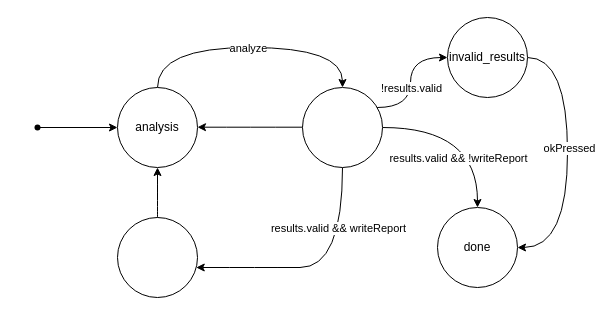
The diagram is 612 pixels wide and 315 high, and some of its shapes have lost their labels. Here are the shapes that lost their labels. From the top down, the centre of each, then its label:
the point at 342,127: solve
the point at 157,257: create_report
